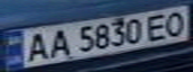0: (124, 16, 148, 45)
3: (109, 18, 130, 47)
5: (72, 23, 96, 53)
8: (90, 20, 112, 51)
A: (18, 29, 54, 63), (45, 26, 72, 60)
E: (142, 11, 172, 42)
O: (160, 8, 190, 37)
